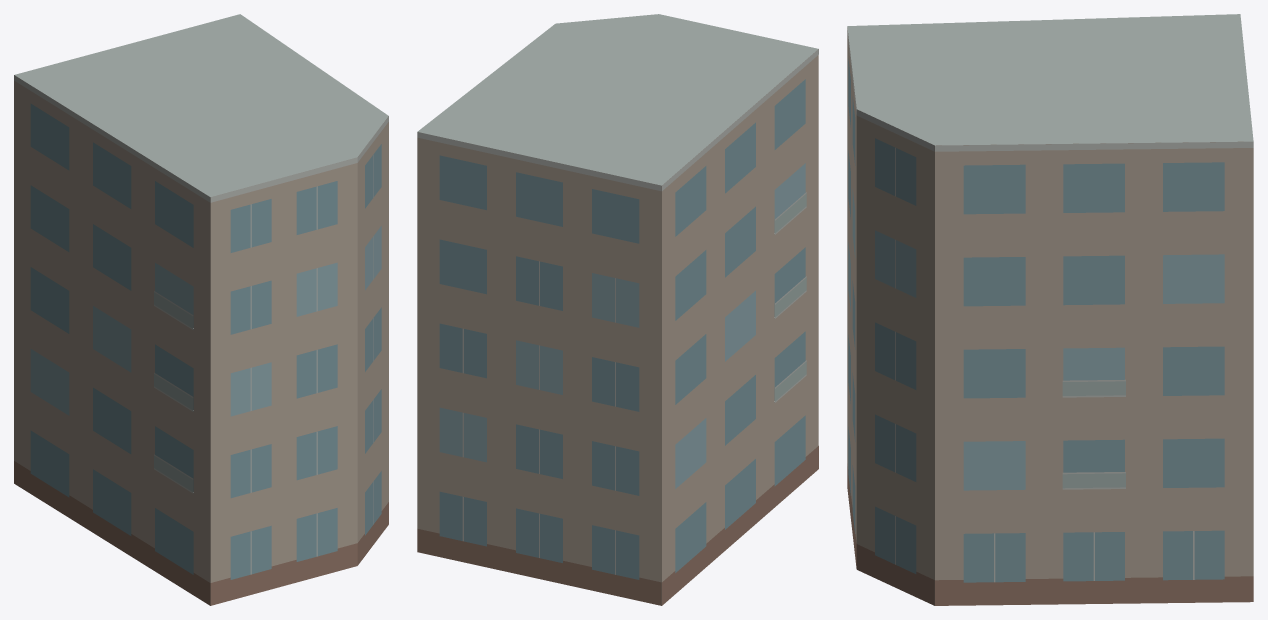
File: survey-upis-32880497.glb
3 renders of one model, left to right at view 1: azimuth 30°, elevation 25°; view 2: azimuth 150°, elevation 25°; view 3: azimuth 270°, elevation 25°, orthographic. The views are drawn at different scales.
Parts seen in each view (by area): view 1: survey-upis-32880497.tmp; view 2: survey-upis-32880497.tmp; view 3: survey-upis-32880497.tmp.
Part boxes in pixels (bbox=[...]): survey-upis-32880497.tmp: bbox=[14, 14, 388, 605]; survey-upis-32880497.tmp: bbox=[417, 14, 818, 605]; survey-upis-32880497.tmp: bbox=[847, 14, 1253, 605].
Size of the model in its own units: 10.91 by 17.8 by 14.25.
